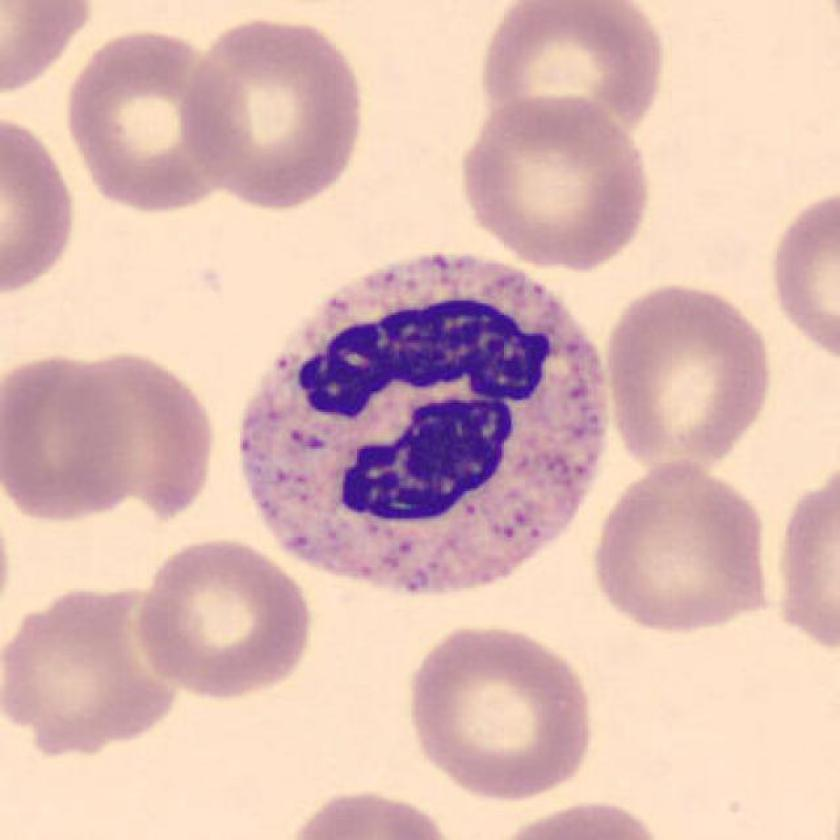neutrophil: (239, 254, 609, 593)
